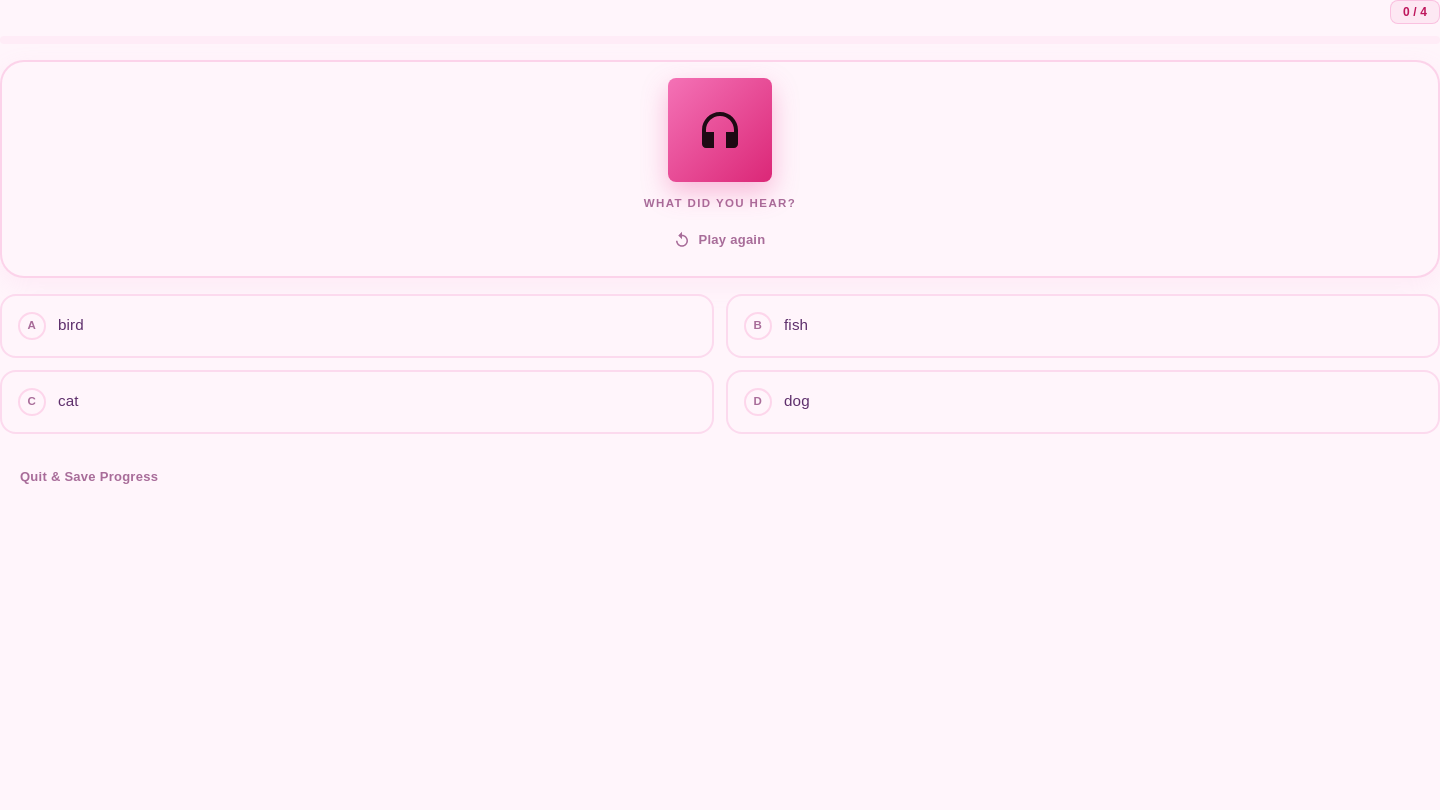
Test case: ListenMode › question › should reveal the word, reading and meaning after answering
Click the button "A bird" at (32, 326), box [0, 294, 714, 358]
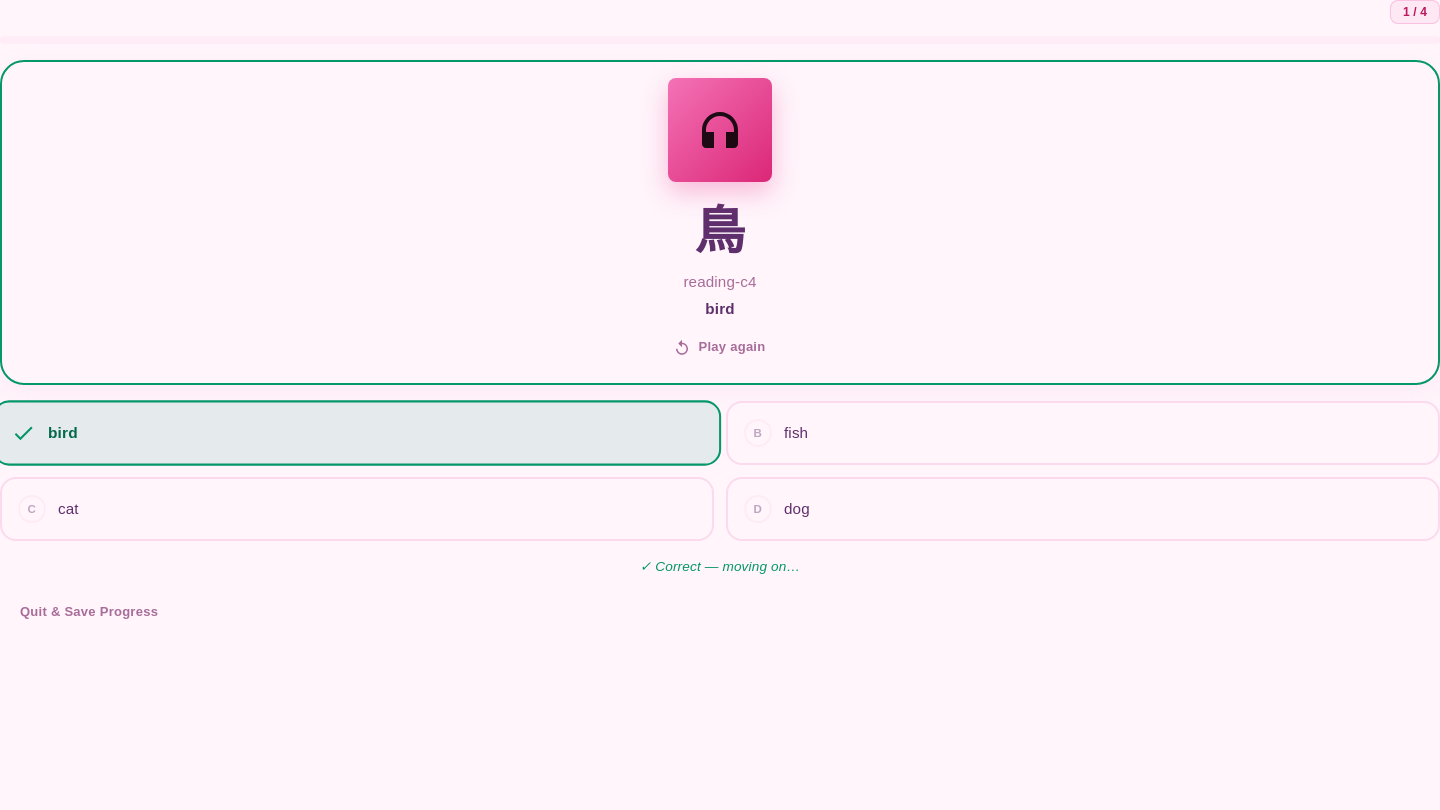
Result: the text "鳥" is shown at [694, 203, 746, 260]
